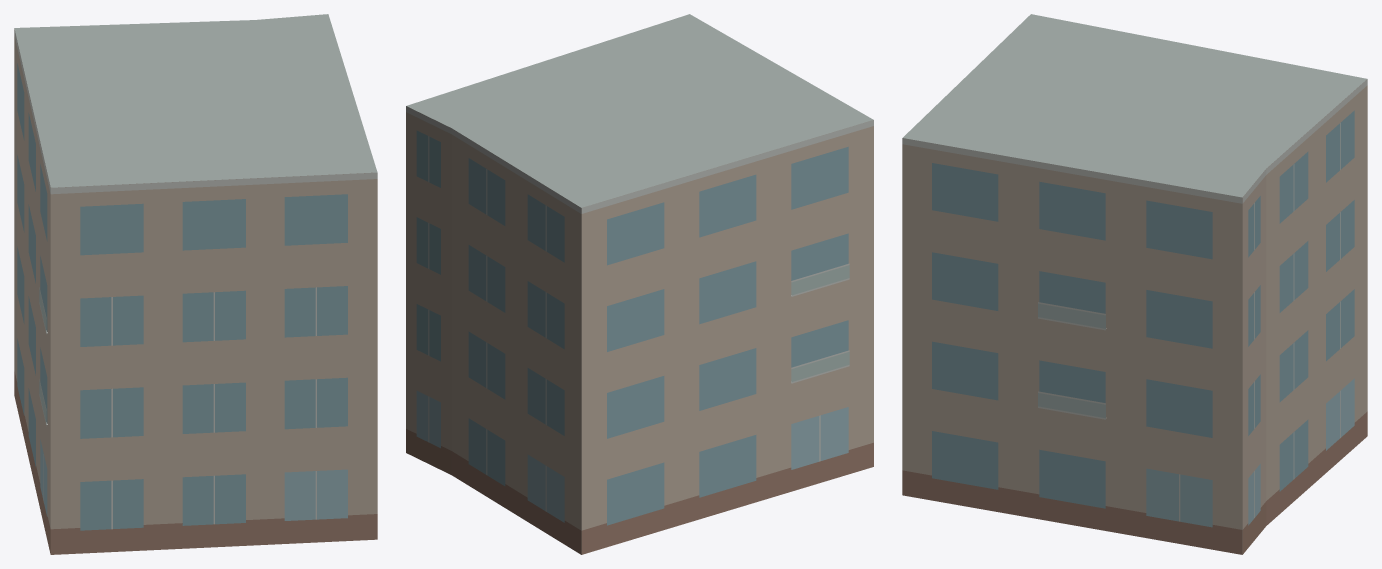
File: survey-upis-32492500.glb
The picture shows the model from 3 angles, left to right: view 1: azimuth 30°, elevation 25°; view 2: azimuth 150°, elevation 25°; view 3: azimuth 270°, elevation 25°; orthographic projection. The views are drawn at different scales.
Visible parts, largest first — view 1: survey-upis-32492500.tmp; view 2: survey-upis-32492500.tmp; view 3: survey-upis-32492500.tmp.
Part boxes in pixels (x1=…): survey-upis-32492500.tmp: x1=14, y1=14, x2=377, y2=554; survey-upis-32492500.tmp: x1=406, y1=14, x2=873, y2=554; survey-upis-32492500.tmp: x1=902, y1=14, x2=1367, y2=554.
Size of the model in its own units: 15.21 by 13.8 by 16.29.
